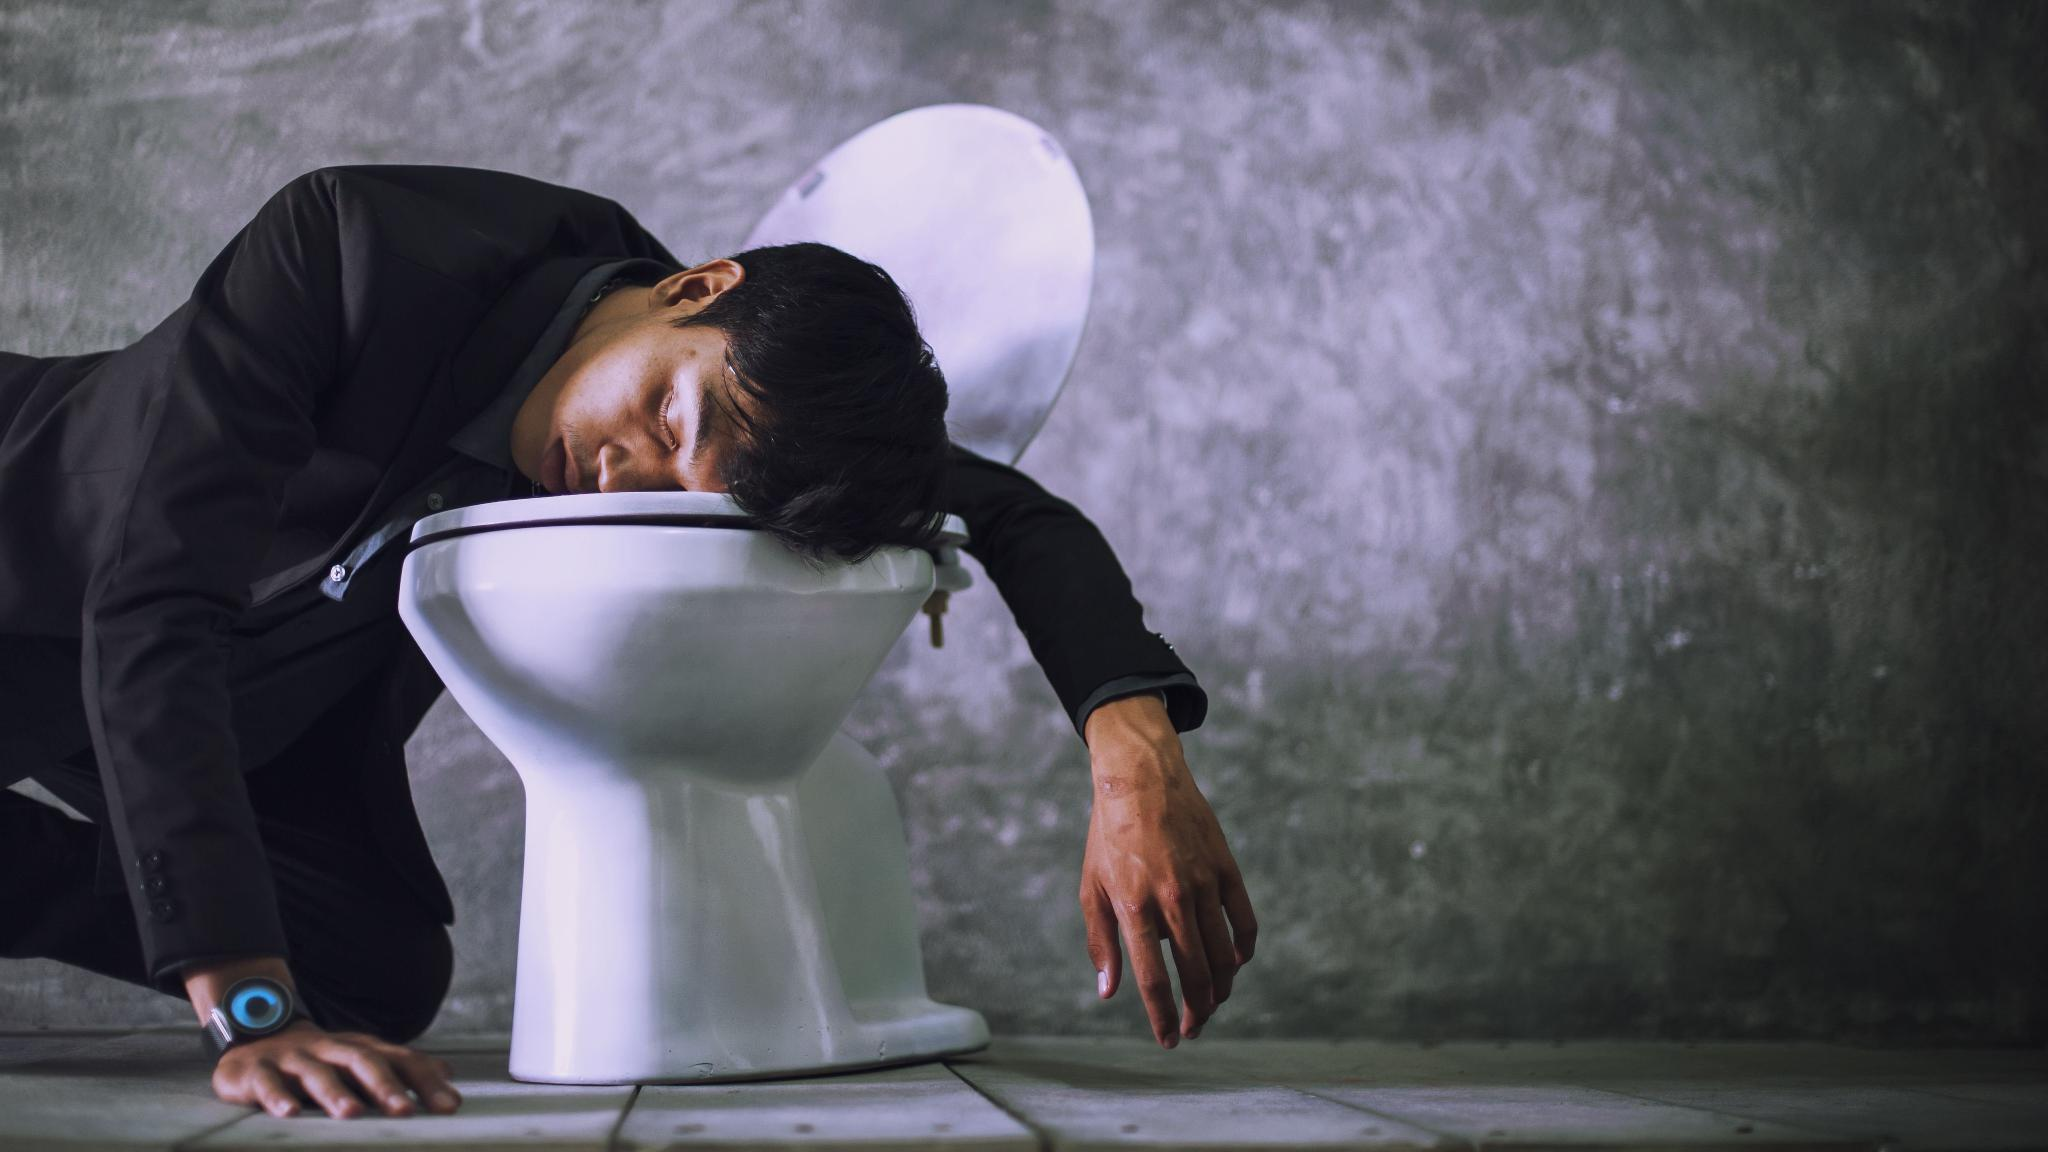Drunk: (506, 311, 806, 518)
